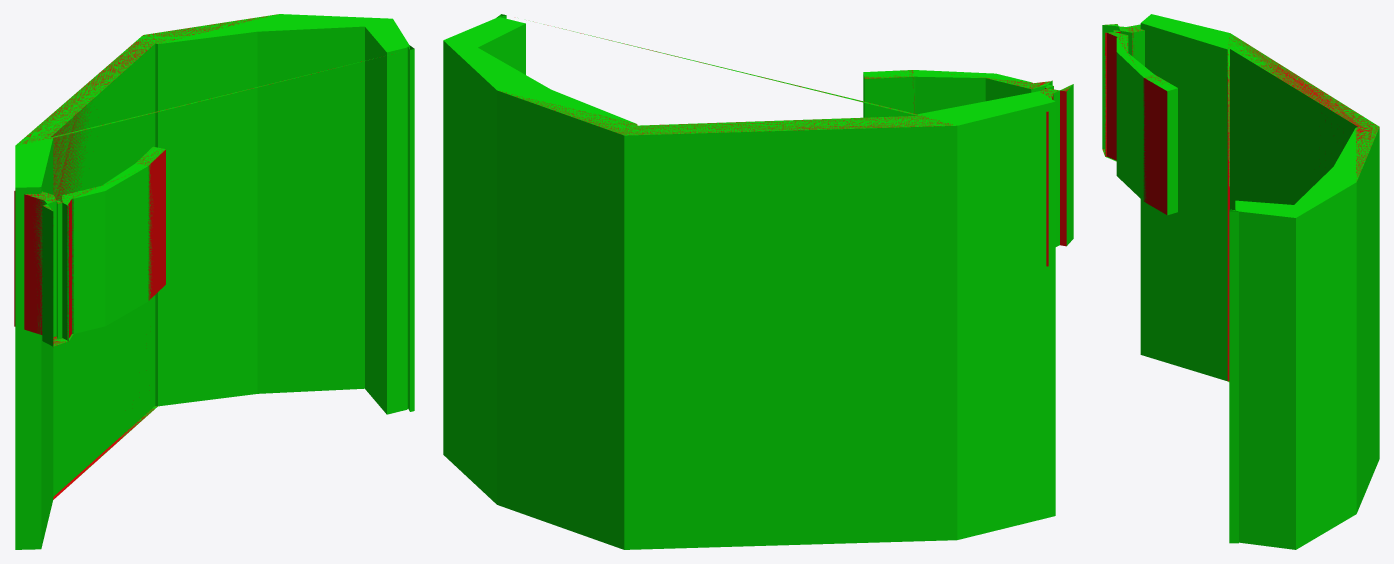
Rendered from InvisibleWall_012.fbx.
3 renders of one model, left to right at view 1: azimuth 30°, elevation 25°; view 2: azimuth 150°, elevation 25°; view 3: azimuth 270°, elevation 25°, orthographic. The views are drawn at different scales.
Parts seen in each view (by area): view 1: Designer139, Designer135, InvisibleWall_012_Phys; view 2: Designer139, Designer135, InvisibleWall_012_Phys; view 3: Designer139, InvisibleWall_012_Phys, Designer135.
Boxes of the visible parts, left/top/right/bottom form: Designer139: left=15, top=14, right=414, bottom=549; Designer135: left=25, top=146, right=165, bottom=346; InvisibleWall_012_Phys: left=14, top=14, right=361, bottom=499; Designer139: left=443, top=14, right=1055, bottom=549; Designer135: left=863, top=70, right=1073, bottom=246; InvisibleWall_012_Phys: left=500, top=25, right=1071, bottom=266; Designer139: left=1140, top=14, right=1379, bottom=549; InvisibleWall_012_Phys: left=1103, top=24, right=1379, bottom=381; Designer135: left=1102, top=24, right=1177, bottom=215.
Bounding box in the file's own units: 6262 × 4750 × 3600.
